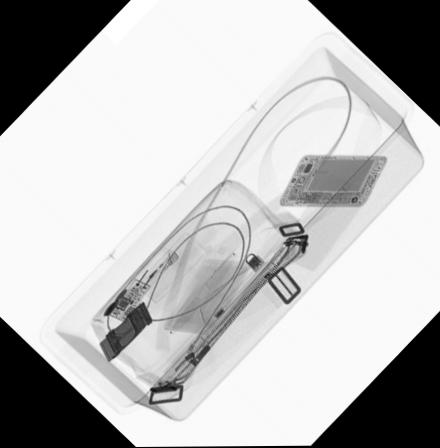Lighter: (127, 249, 177, 303)
